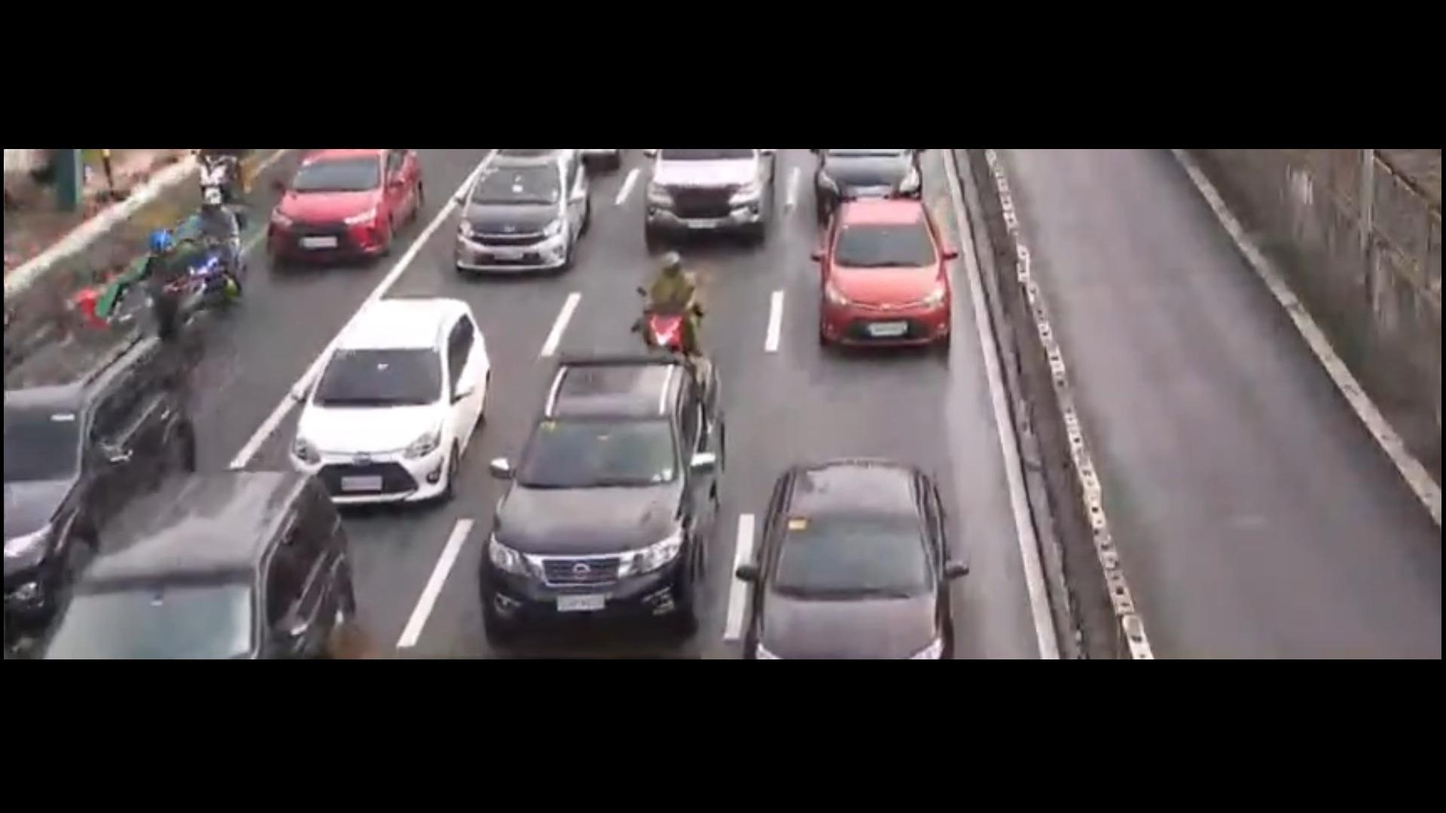Motorcycle: (110, 219, 215, 357), (617, 241, 738, 357), (183, 185, 258, 334)
Pickup: (459, 339, 746, 651)
SUV: (18, 467, 345, 672), (0, 324, 187, 642)
Sedan: (268, 292, 507, 500), (737, 446, 957, 663), (795, 179, 968, 362), (444, 153, 607, 292), (262, 149, 428, 265)
